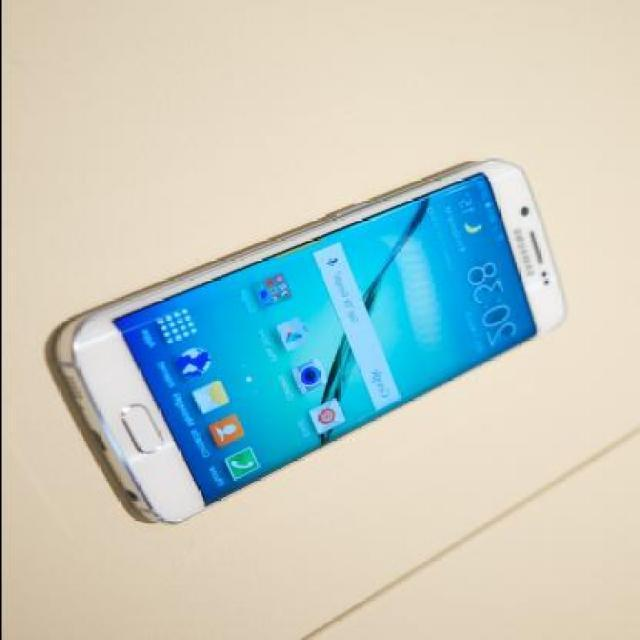phone: (51, 157, 567, 528)
